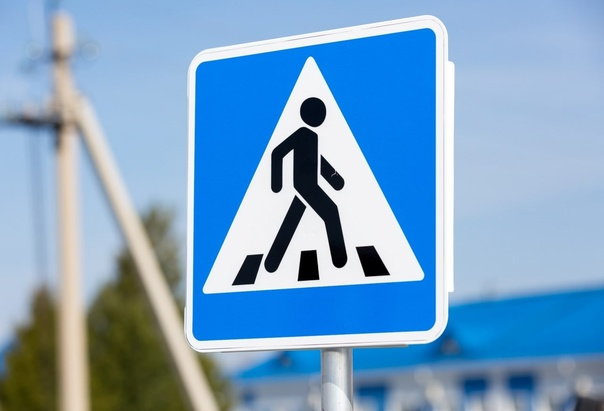yaya_gecidi: (178, 17, 450, 345)
